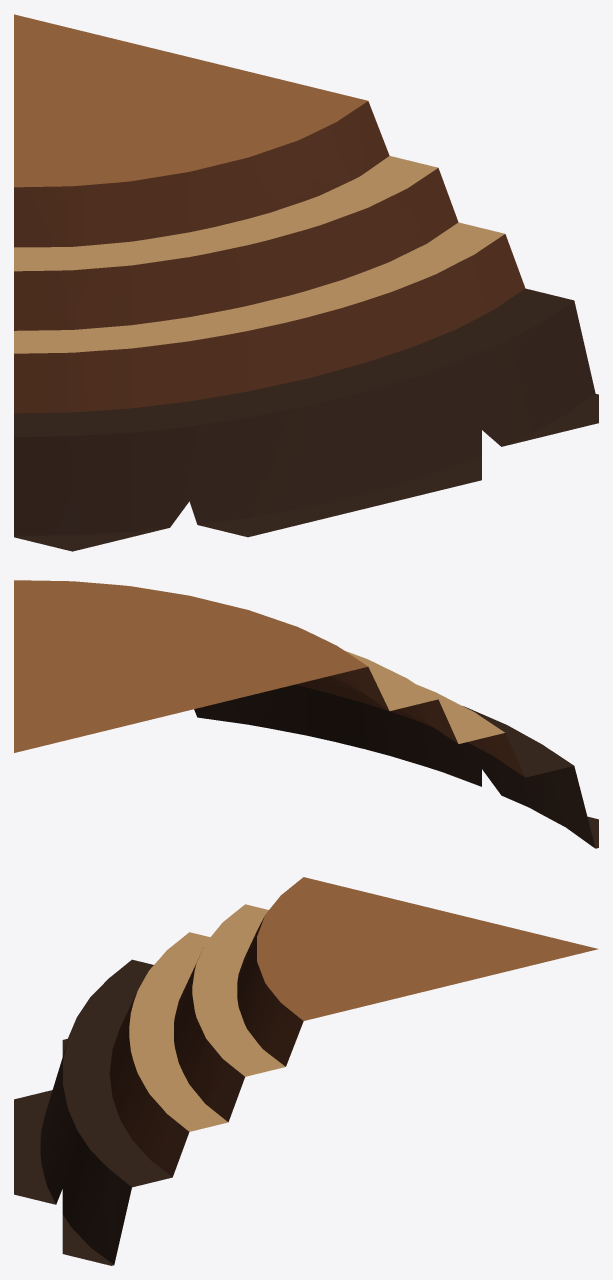
The model's file is MODULE_STEPWELL_IN.fbx.
3 views of the same model, one above another, from view 1: azimuth 30°, elevation 25°; view 2: azimuth 150°, elevation 25°; view 3: azimuth 270°, elevation 25° (orthographic). The views are drawn at different scales.
Parts seen in each view (by area): view 1: MODULE_STEPWELL_IN__export; view 2: MODULE_STEPWELL_IN__export; view 3: MODULE_STEPWELL_IN__export.
Boxes of the visible parts, box(x1,y1,x2,y2) form: MODULE_STEPWELL_IN__export: box(14, 14, 598, 551); MODULE_STEPWELL_IN__export: box(14, 580, 598, 848); MODULE_STEPWELL_IN__export: box(14, 877, 598, 1265).
Bounding box in the file's own units: 62.5 × 24.25 × 64.95.
